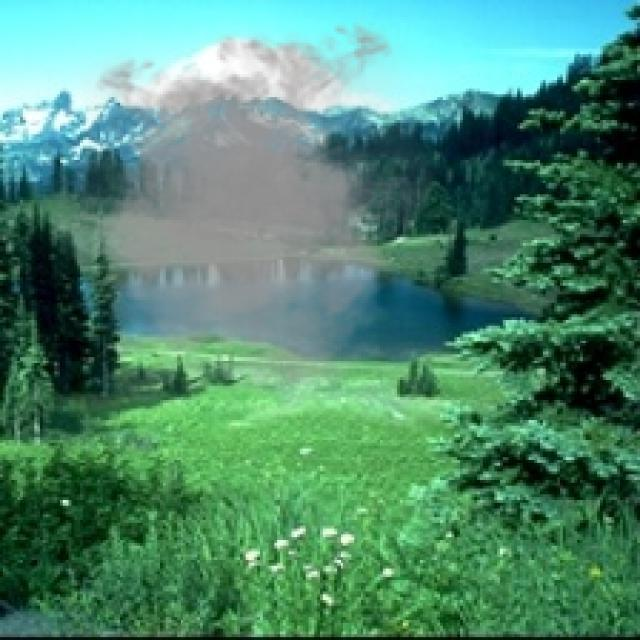Smoke: (34, 12, 454, 394)
